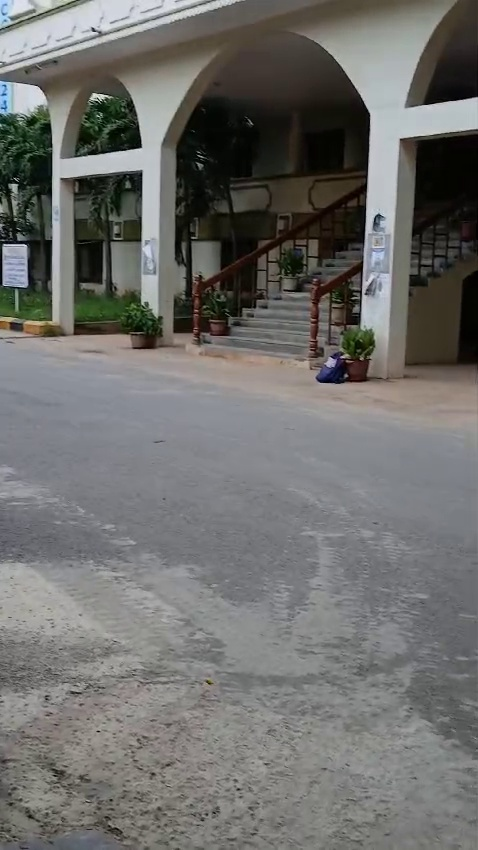bag: (312, 345, 348, 395)
